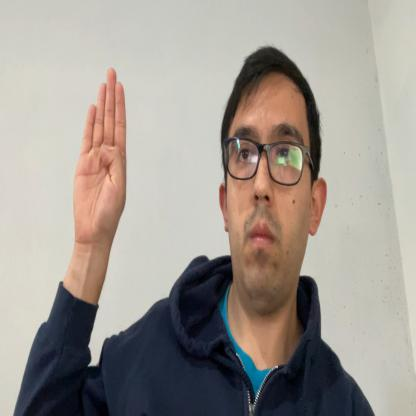B: (73, 66, 127, 250)
